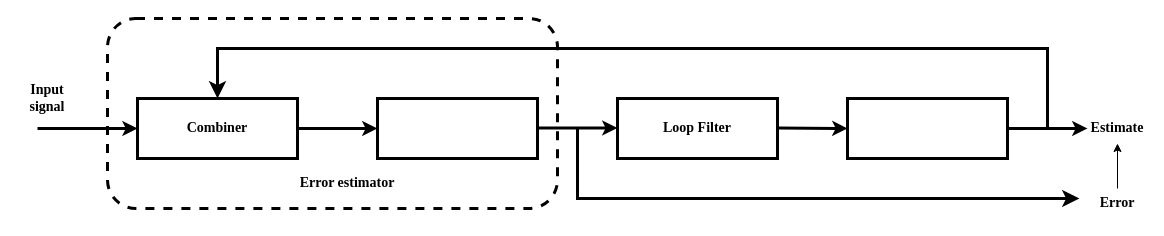
Image size: 1164x236. Some labels were removed from this diagram. The centre of each missing label's shape, as x and y in pixels:
"Discriminator" goes at [457,128].
"Integrator (NCO)" goes at [927,128].
